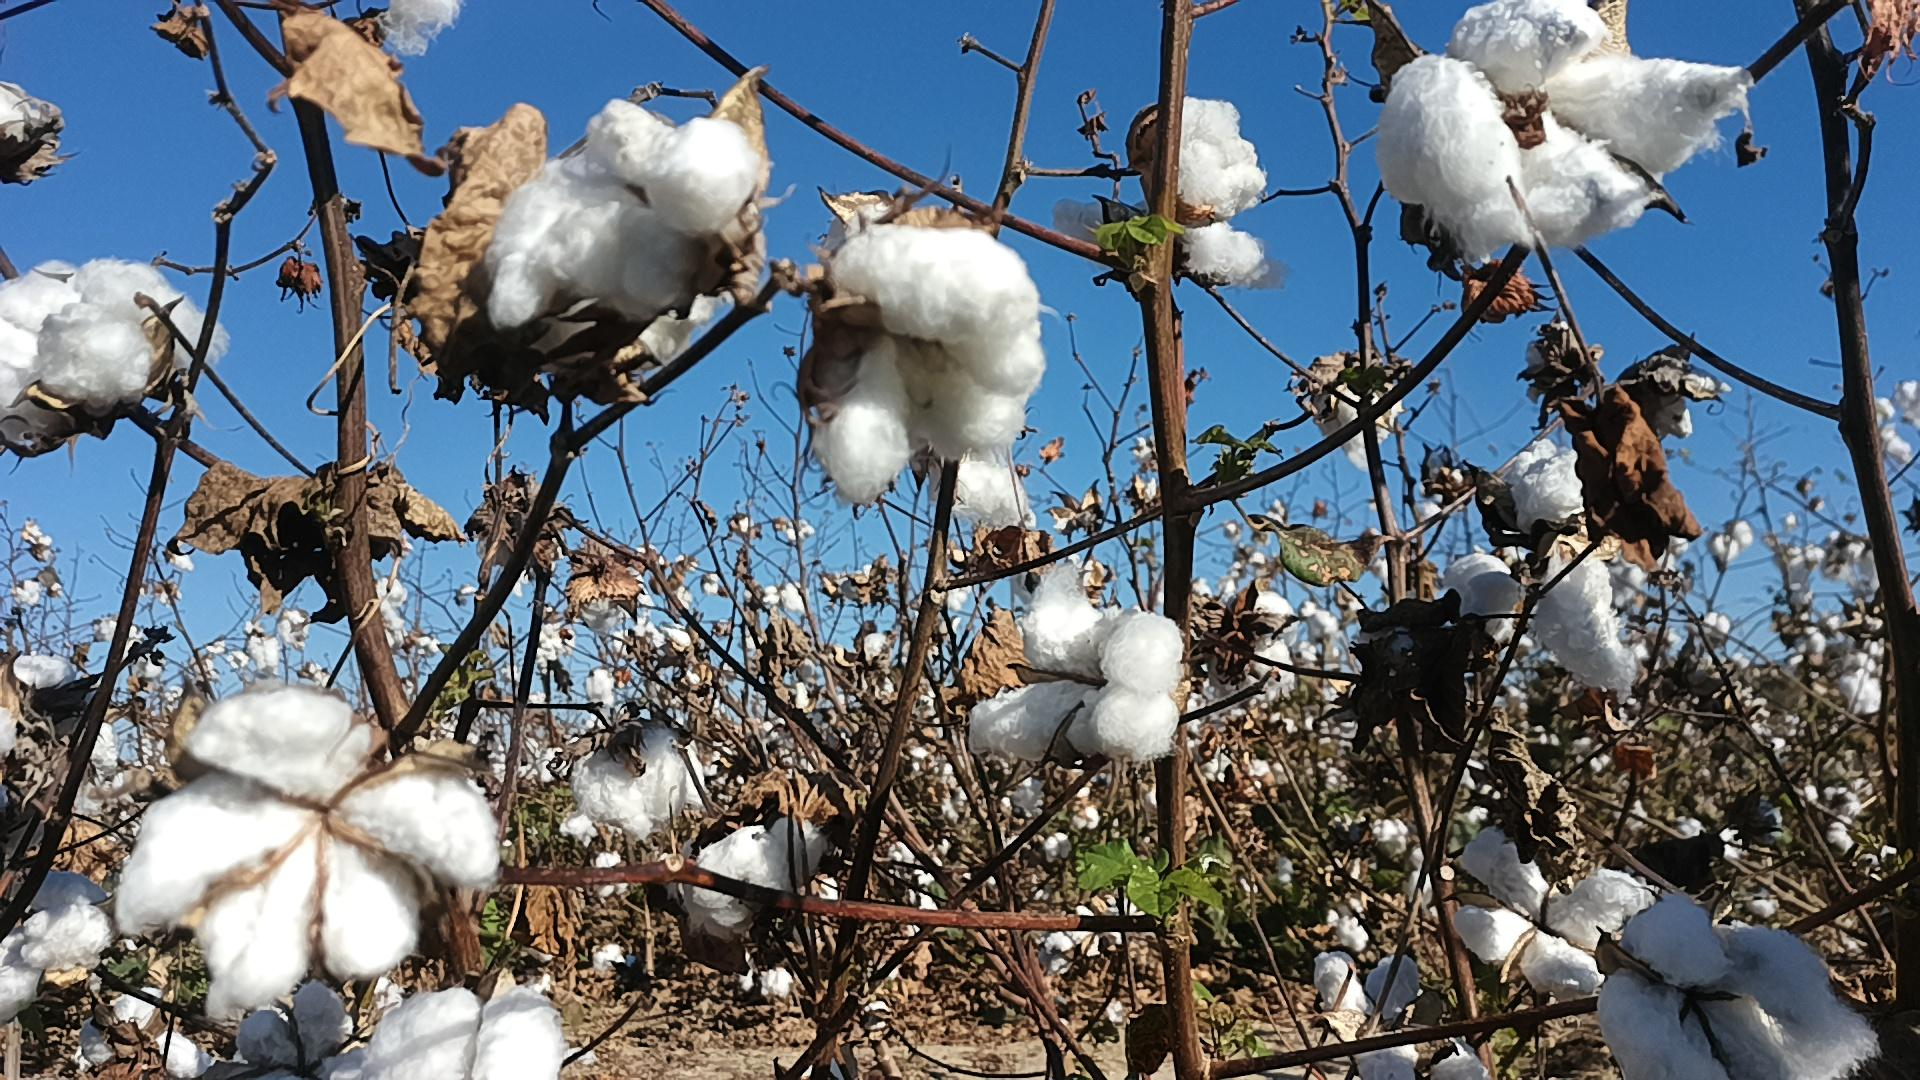cotton_ready: (113, 691, 501, 1006), (1378, 0, 1755, 269), (818, 225, 1044, 502), (489, 95, 761, 326), (1602, 903, 1883, 1080), (965, 555, 1185, 767), (0, 256, 233, 440), (1448, 820, 1647, 998), (1052, 195, 1291, 295), (328, 982, 568, 1080), (0, 650, 125, 820), (538, 286, 717, 389), (1135, 95, 1270, 215), (684, 818, 823, 931), (578, 725, 711, 839), (1531, 546, 1631, 692), (1304, 351, 1403, 469), (237, 988, 364, 1080), (1313, 910, 1416, 1023), (80, 990, 204, 1080), (20, 865, 117, 965), (1498, 440, 1594, 539), (1208, 591, 1298, 696), (1361, 1026, 1484, 1080), (1451, 555, 1519, 641), (378, 0, 460, 63), (0, 83, 55, 164), (0, 928, 38, 1026)
